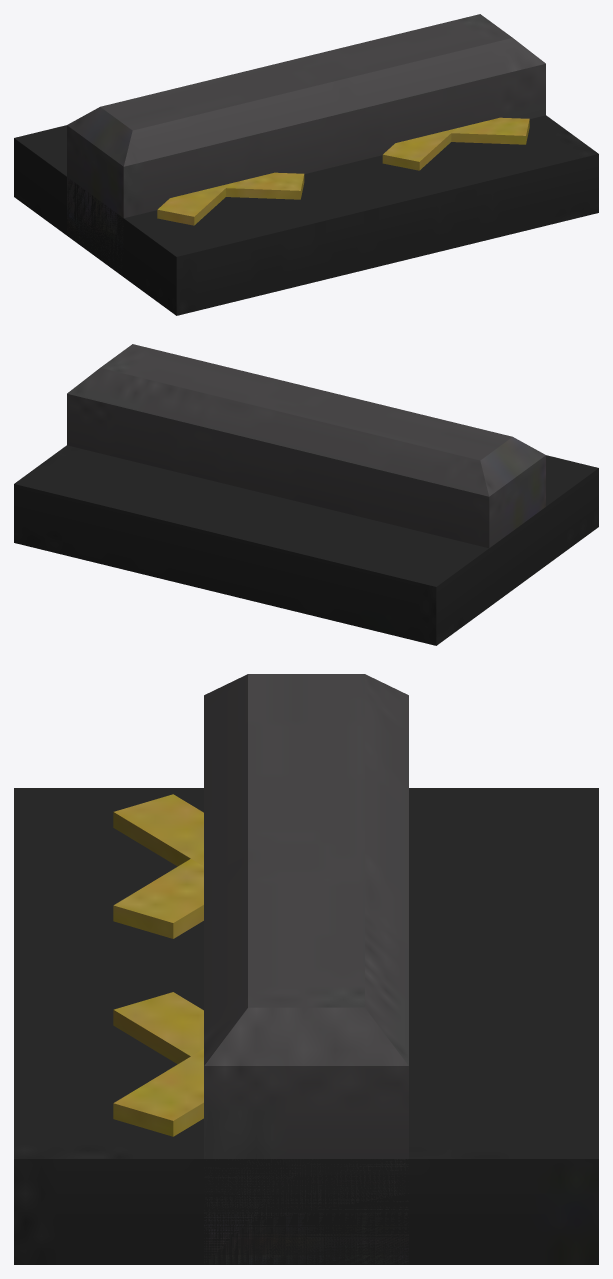
Rendered from splitter.glb.
3 renders of one model, top to bottom at view 1: azimuth 30°, elevation 25°; view 2: azimuth 150°, elevation 25°; view 3: azimuth 270°, elevation 25°, orthographic. The views are drawn at different scales.
Parts seen in each view (by area): view 1: splitter; view 2: splitter; view 3: splitter.
Part boxes in pixels (x1,y1,x2,y2): splitter: (14, 14, 598, 315); splitter: (14, 344, 598, 645); splitter: (14, 674, 598, 1264).
Size of the model in its own units: 0.3 by 0.09 by 0.2.
Materials: 1 (1 with a texture image).
